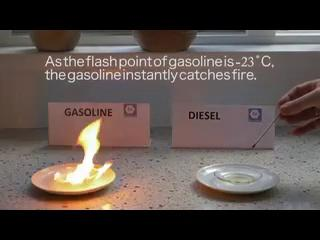Fire: (60, 114, 112, 187)
